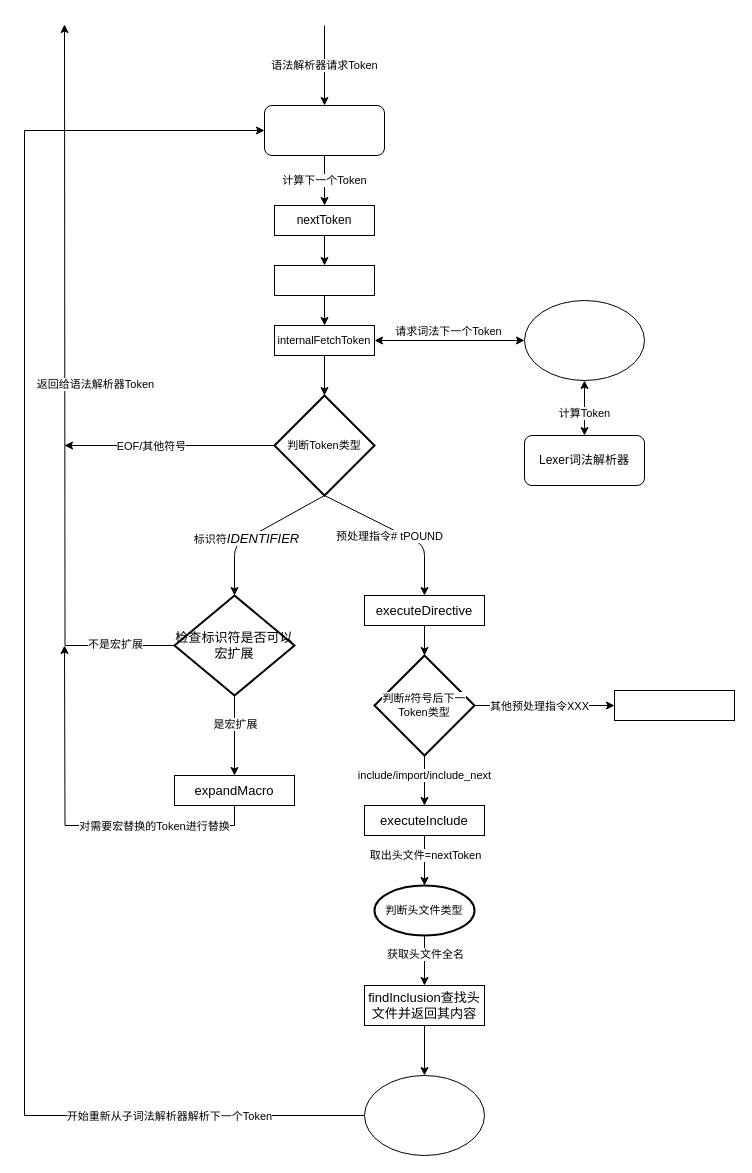
Some shapes in this 752 by 1173 pixel diagram are drawn without their labels. Here are the shapes that lost their labels. From the top down, the centre of each, then its label:
At (x=324, y=130): "CPreproceccer".
At (x=324, y=280): "fetchToken".
At (x=584, y=340): "ScannerContext： currentContext".
At (x=674, y=705): "executeXXX".
At (x=424, y=1115): "将返回的头文件内容构建子词法解析器".
